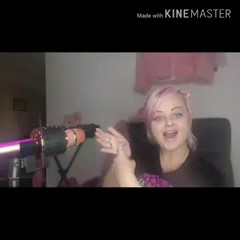R: (92, 125, 140, 189)
